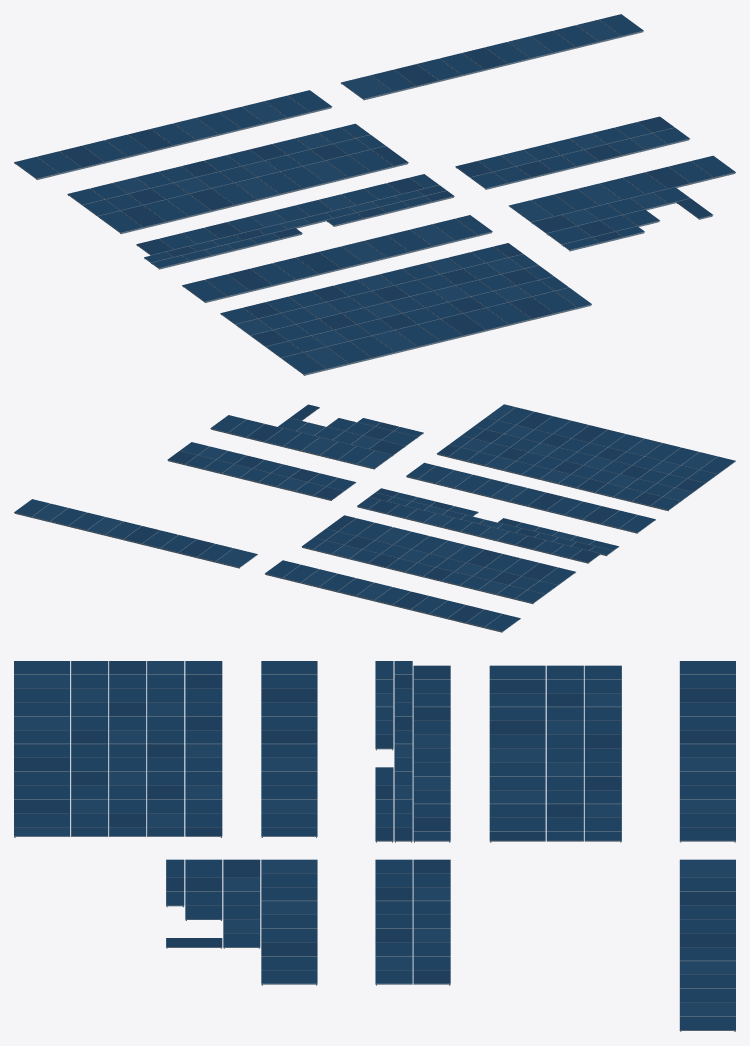
File: SM_MPRSU_SolarBank_02_0.fbx
3 renders of one model, top to bottom at view 1: azimuth 30°, elevation 25°; view 2: azimuth 150°, elevation 25°; view 3: azimuth 270°, elevation 25°, orthographic. The views are drawn at different scales.
Parts seen in each view (by area): view 1: SM_MPRSU_SolarBank_02_0; view 2: SM_MPRSU_SolarBank_02_0; view 3: SM_MPRSU_SolarBank_02_0.
Boxes of the visible parts, left/top/right/bottom form: SM_MPRSU_SolarBank_02_0: left=14, top=14, right=735, bottom=375; SM_MPRSU_SolarBank_02_0: left=14, top=404, right=735, bottom=632; SM_MPRSU_SolarBank_02_0: left=14, top=661, right=735, bottom=1031.
Size of the model in its own units: 8952 by 7402 by 24.6.
